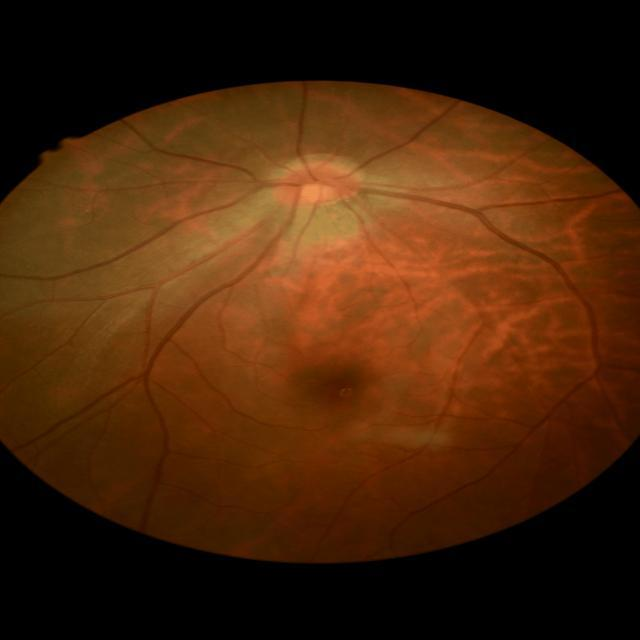cup: (299, 180, 342, 197)
disk: (275, 162, 361, 204)
